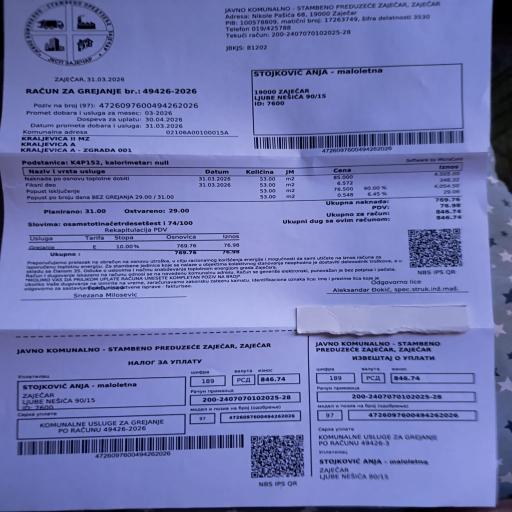racun_za_grejanje: (21, 161, 473, 220)
